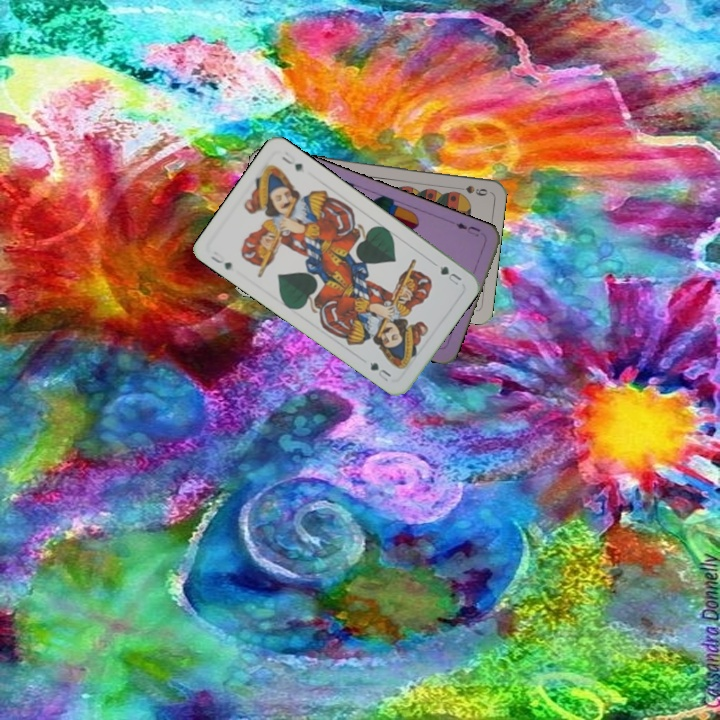EU: (452, 218, 483, 239)
GU: (435, 262, 464, 288), (207, 247, 234, 272)
S9: (450, 182, 490, 199)
